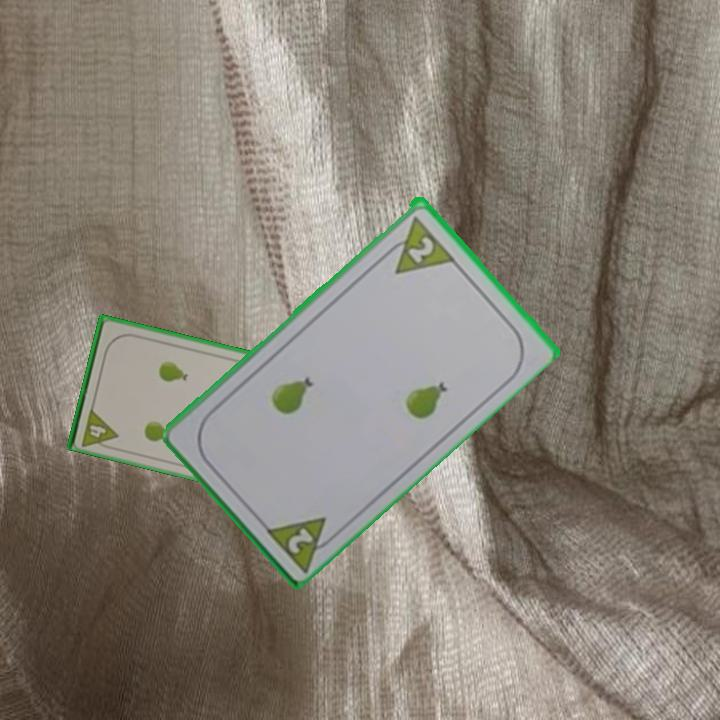2p: (404, 231, 437, 266), (284, 523, 317, 556)
4p: (78, 404, 121, 453)
